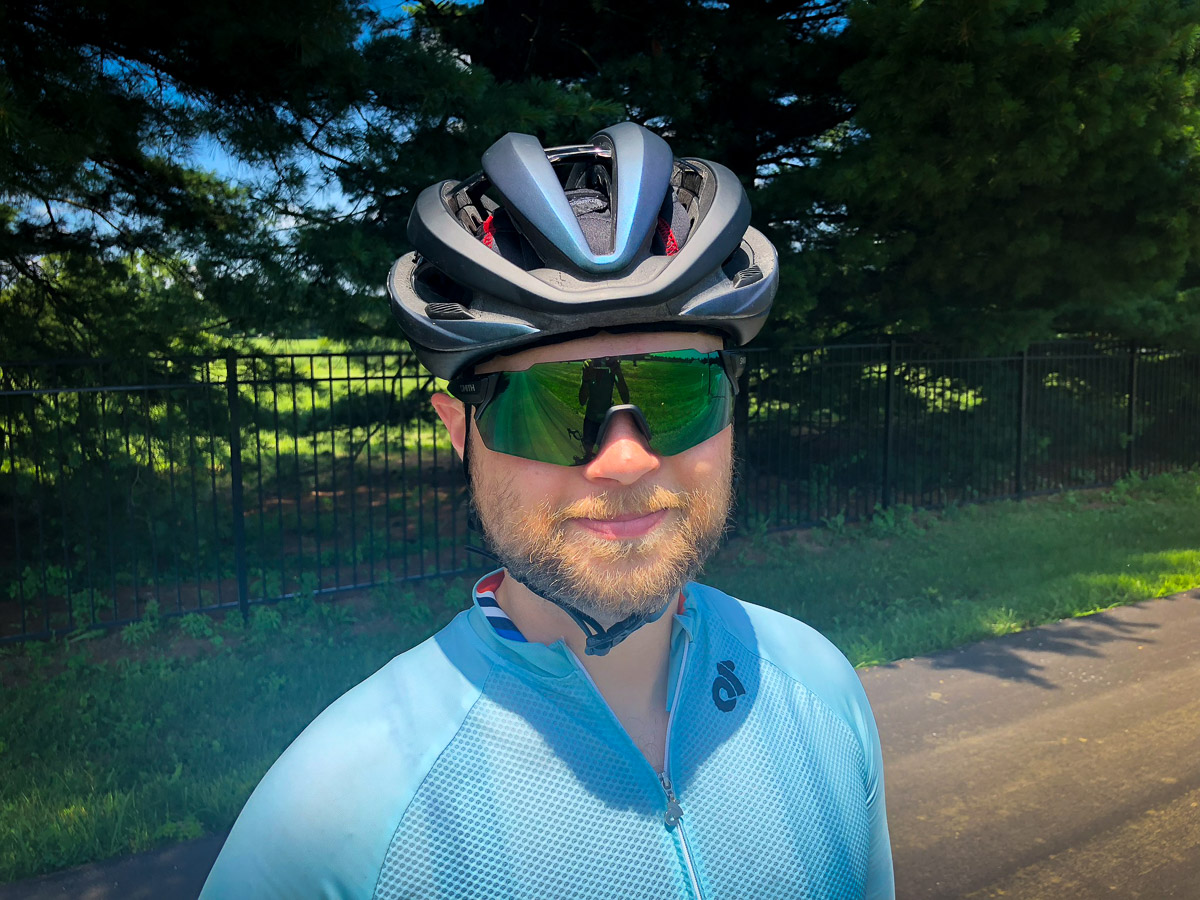helmet: (386, 121, 780, 627)
